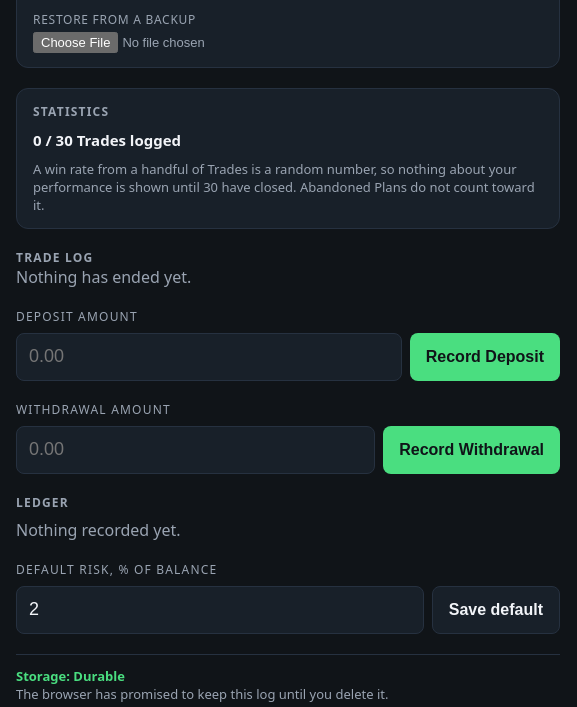
it: the account screen › records one Deposit when the button is tapped twice before the first has saved
(page scrolled)
Type "30" into the number field labelled "Deposit amount" at (209, 357), box [16, 333, 402, 381]
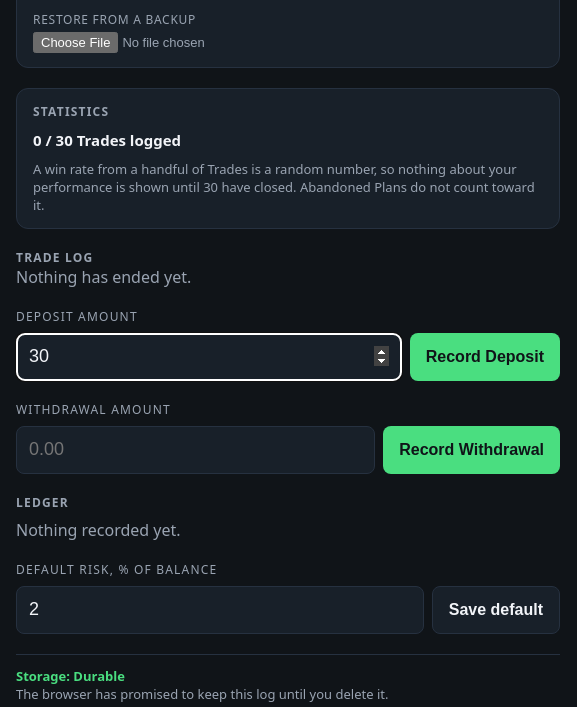
Click the button "Record Deposit" at (485, 357), box [410, 333, 560, 381]
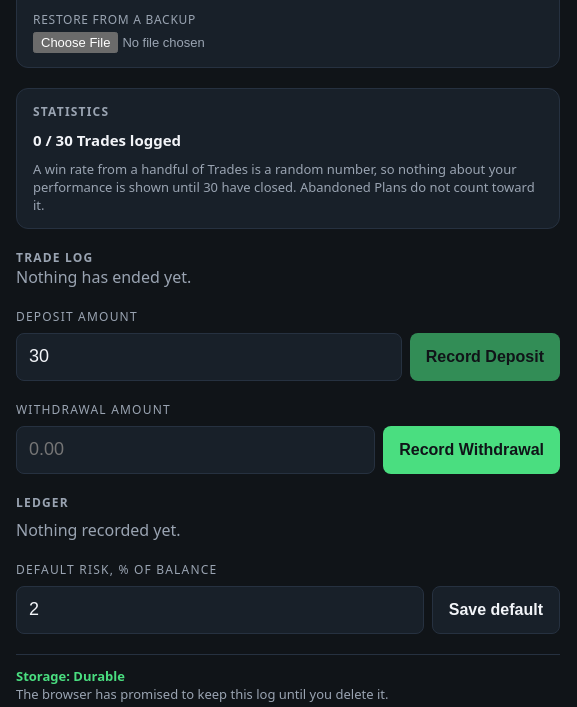
Click the button "Record Deposit" at (485, 357), box [410, 333, 560, 381]
(page scrolled)
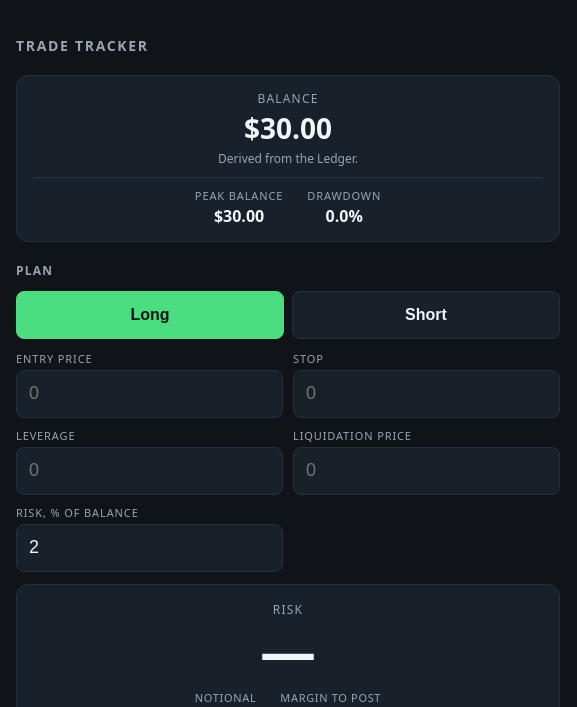
Expected: the element labelled "Balance" shows "$30.00", [244, 109, 332, 147]
